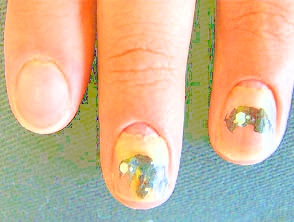SJS-TEN: (211, 70, 292, 170), (107, 122, 178, 203)
